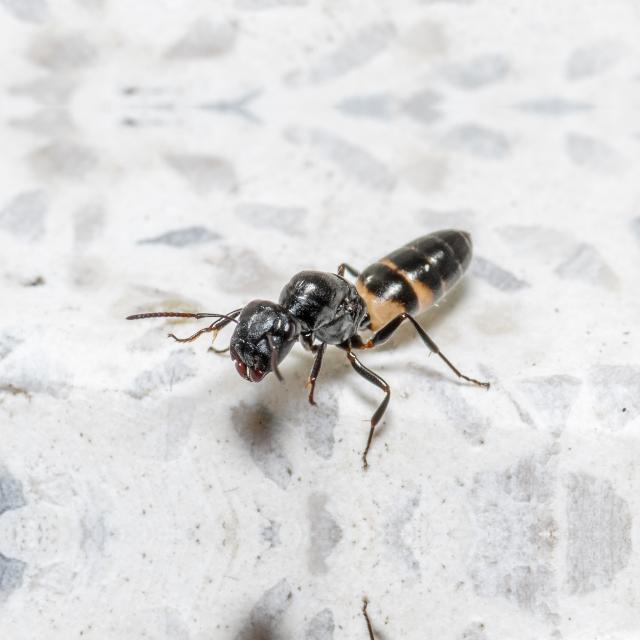Colobopsis: (176, 210, 508, 408)
